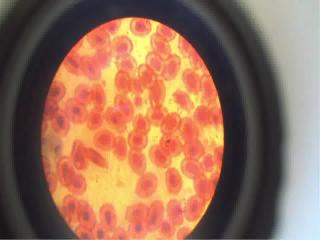cell: (98, 198, 116, 229), (110, 35, 138, 53), (115, 92, 133, 119), (132, 17, 155, 38), (180, 161, 205, 180), (48, 79, 70, 100), (134, 175, 157, 195), (81, 53, 99, 78), (151, 144, 169, 169), (150, 83, 170, 105), (182, 119, 204, 139), (173, 91, 195, 111), (56, 159, 72, 185), (66, 52, 84, 75), (68, 175, 88, 195), (62, 196, 78, 221), (78, 201, 94, 226), (94, 128, 114, 148), (185, 140, 206, 159), (126, 200, 148, 218), (128, 220, 150, 238), (106, 108, 124, 130), (130, 149, 146, 173), (66, 100, 85, 120), (152, 35, 171, 55), (53, 115, 71, 136), (166, 59, 184, 80), (150, 201, 163, 230), (89, 28, 108, 47), (160, 115, 179, 134), (88, 109, 106, 129), (166, 172, 181, 196), (147, 53, 164, 73), (115, 72, 132, 92), (130, 132, 151, 148), (74, 83, 92, 101), (115, 57, 136, 72), (41, 100, 58, 118), (92, 223, 110, 240), (94, 85, 106, 109), (115, 137, 127, 160), (134, 115, 152, 130), (76, 226, 92, 240)
